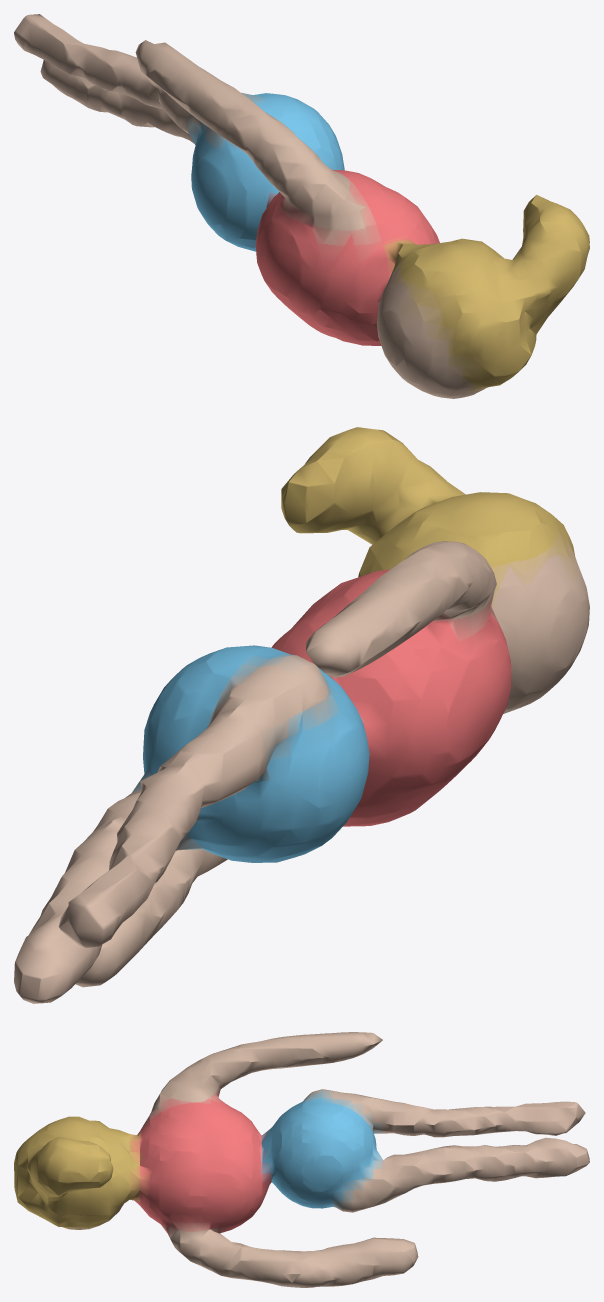
The model's file is rachel-polly.obj.
3 renders of one model, top to bottom at view 1: azimuth 30°, elevation 25°; view 2: azimuth 150°, elevation 25°; view 3: azimuth 270°, elevation 25°, orthographic. The views are drawn at different scales.
Visible parts, largest first — view 1: Layer_1; view 2: Layer_1; view 3: Layer_1.
Boxes of the visible parts, x1=… form: Layer_1: x1=14, y1=14, x2=589, y2=398; Layer_1: x1=14, y1=427, x2=589, y2=1003; Layer_1: x1=14, y1=1032, x2=589, y2=1287.
Size of the model in its own units: 14.42 by 15.91 by 42.56.
Materials: 1 (1 with a texture image).
